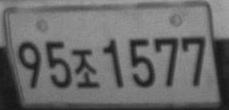1: (102, 38, 126, 87)
5: (128, 38, 155, 87), (45, 41, 72, 87)
7: (154, 37, 179, 86), (181, 36, 205, 86)
9: (17, 40, 41, 87)
조: (72, 48, 99, 88)
